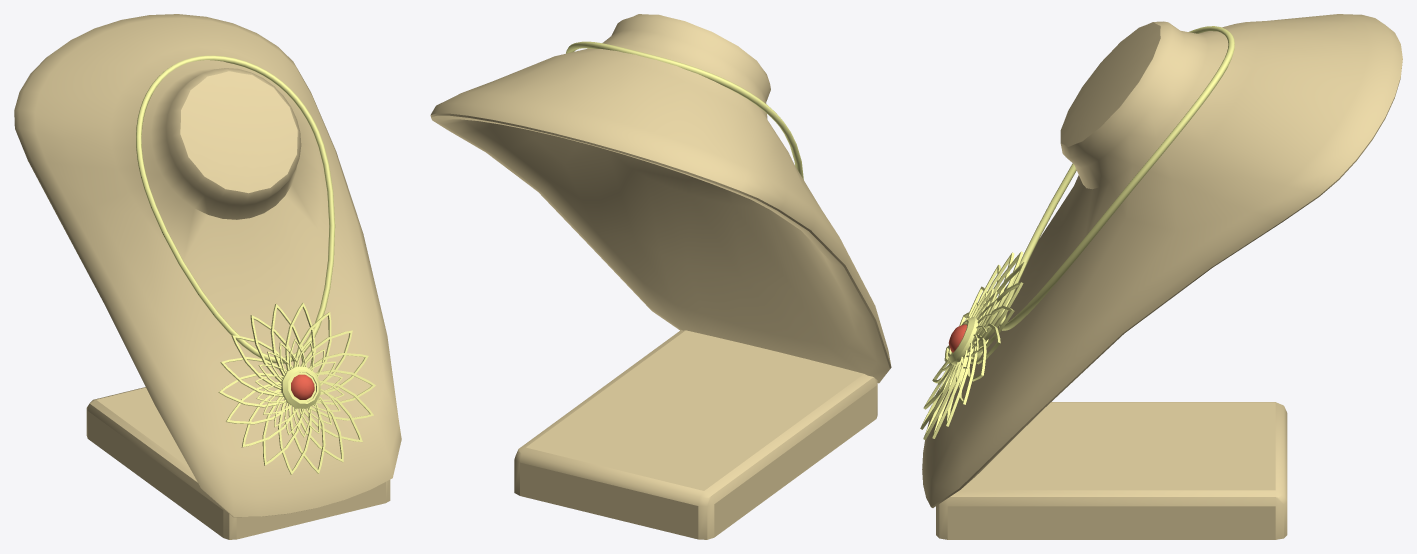
File: Necklace_1.fbx
The picture shows the model from 3 angles, left to right: view 1: azimuth 30°, elevation 25°; view 2: azimuth 150°, elevation 25°; view 3: azimuth 270°, elevation 25°; orthographic projection. The views are drawn at different scales.
Parts seen in each view (by area): view 1: SM_Stand_Necklace, SM_Cullon_14, SM_Necklace_4; view 2: SM_Stand_Necklace, SM_Necklace_4; view 3: SM_Stand_Necklace, SM_Cullon_14, SM_Necklace_4.
Part boxes in pixels (box(x1,y1,x2,y2)): SM_Stand_Necklace: box(14, 14, 401, 539); SM_Cullon_14: box(218, 302, 375, 474); SM_Necklace_4: box(136, 55, 335, 363); SM_Stand_Necklace: box(430, 14, 891, 539); SM_Necklace_4: box(566, 41, 803, 179); SM_Stand_Necklace: box(922, 14, 1402, 539); SM_Cullon_14: box(920, 251, 1026, 439); SM_Necklace_4: box(998, 26, 1234, 330).
Size of the model in its own units: 22.51 by 29.29 by 27.9.
